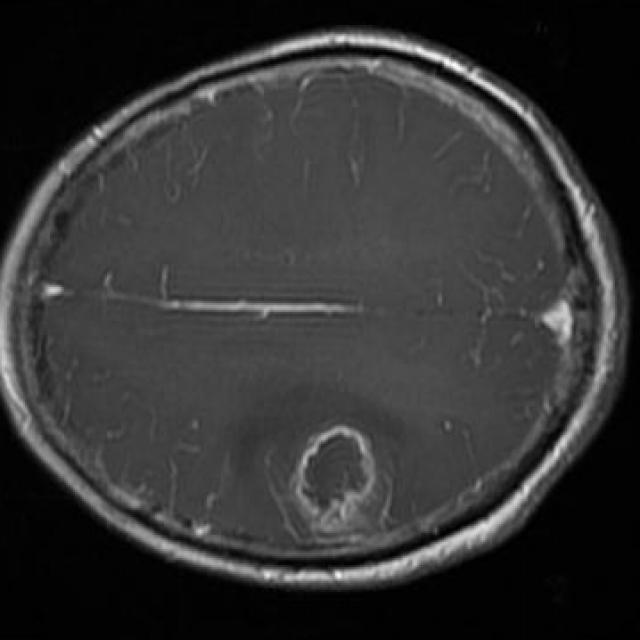glioma: (280, 419, 396, 538)
